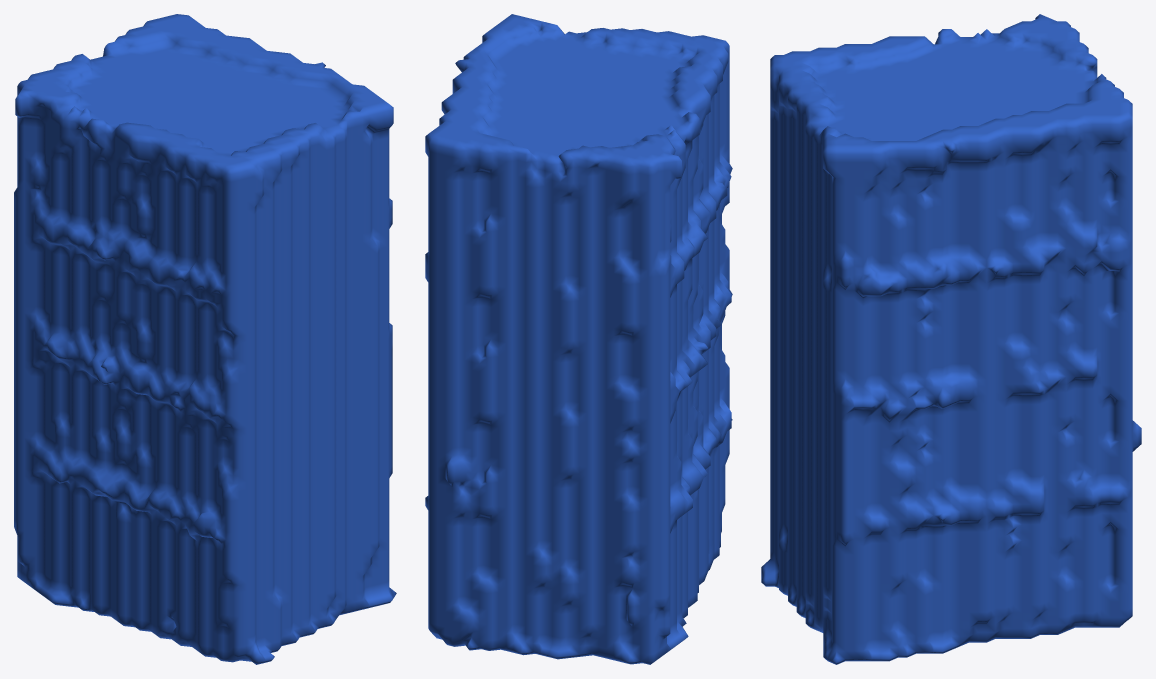
Rendered from gen4_colored.obj.
3 renders of one model, left to right at view 1: azimuth 30°, elevation 25°; view 2: azimuth 150°, elevation 25°; view 3: azimuth 270°, elevation 25°, orthographic. The views are drawn at different scales.
Parts seen in each view (by area): view 1: gen4.obj; view 2: gen4.obj; view 3: gen4.obj.
Part boxes in pixels (<box>): gen4.obj: <box>14,14,396,664</box>; gen4.obj: <box>425,14,732,664</box>; gen4.obj: <box>761,14,1141,664</box>.
Bounding box in the file's own units: 38 × 64 × 43.
